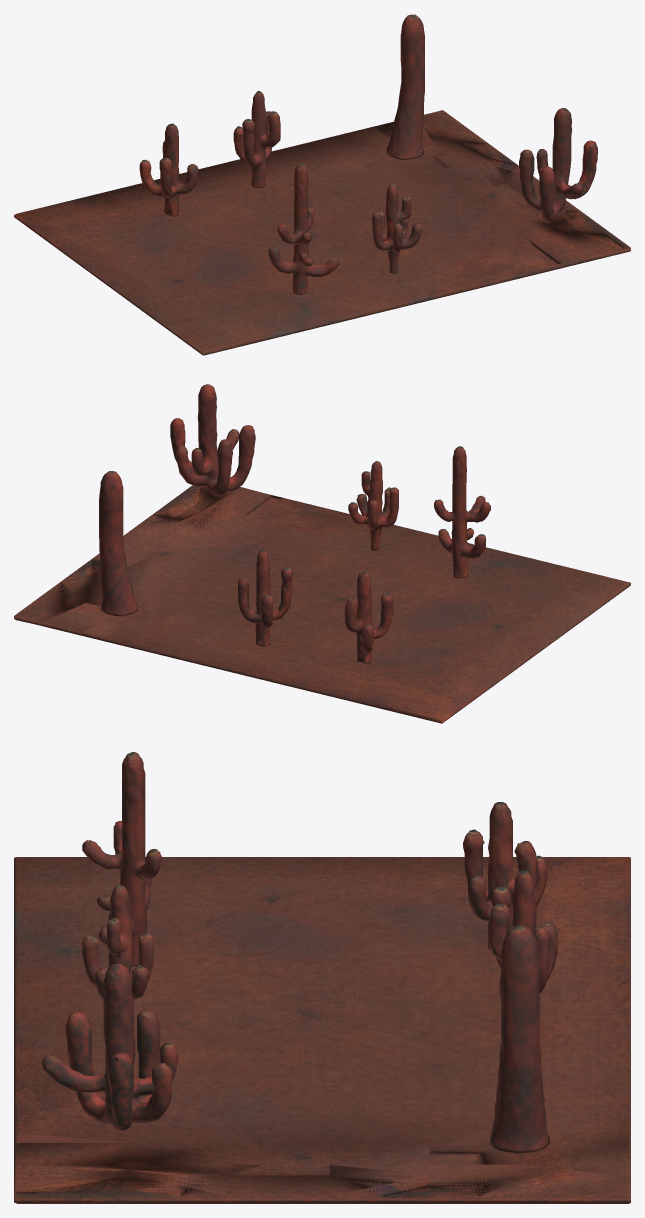
File: copper_mine_desert_trail_backdrop_prop.glb
3 renders of one model, top to bottom at view 1: azimuth 30°, elevation 25°; view 2: azimuth 150°, elevation 25°; view 3: azimuth 270°, elevation 25°, orthographic. The views are drawn at different scales.
Bounding box in the file's own units: 1.91 × 0.591 × 1.45.
Materials: 1 (1 with a texture image).
